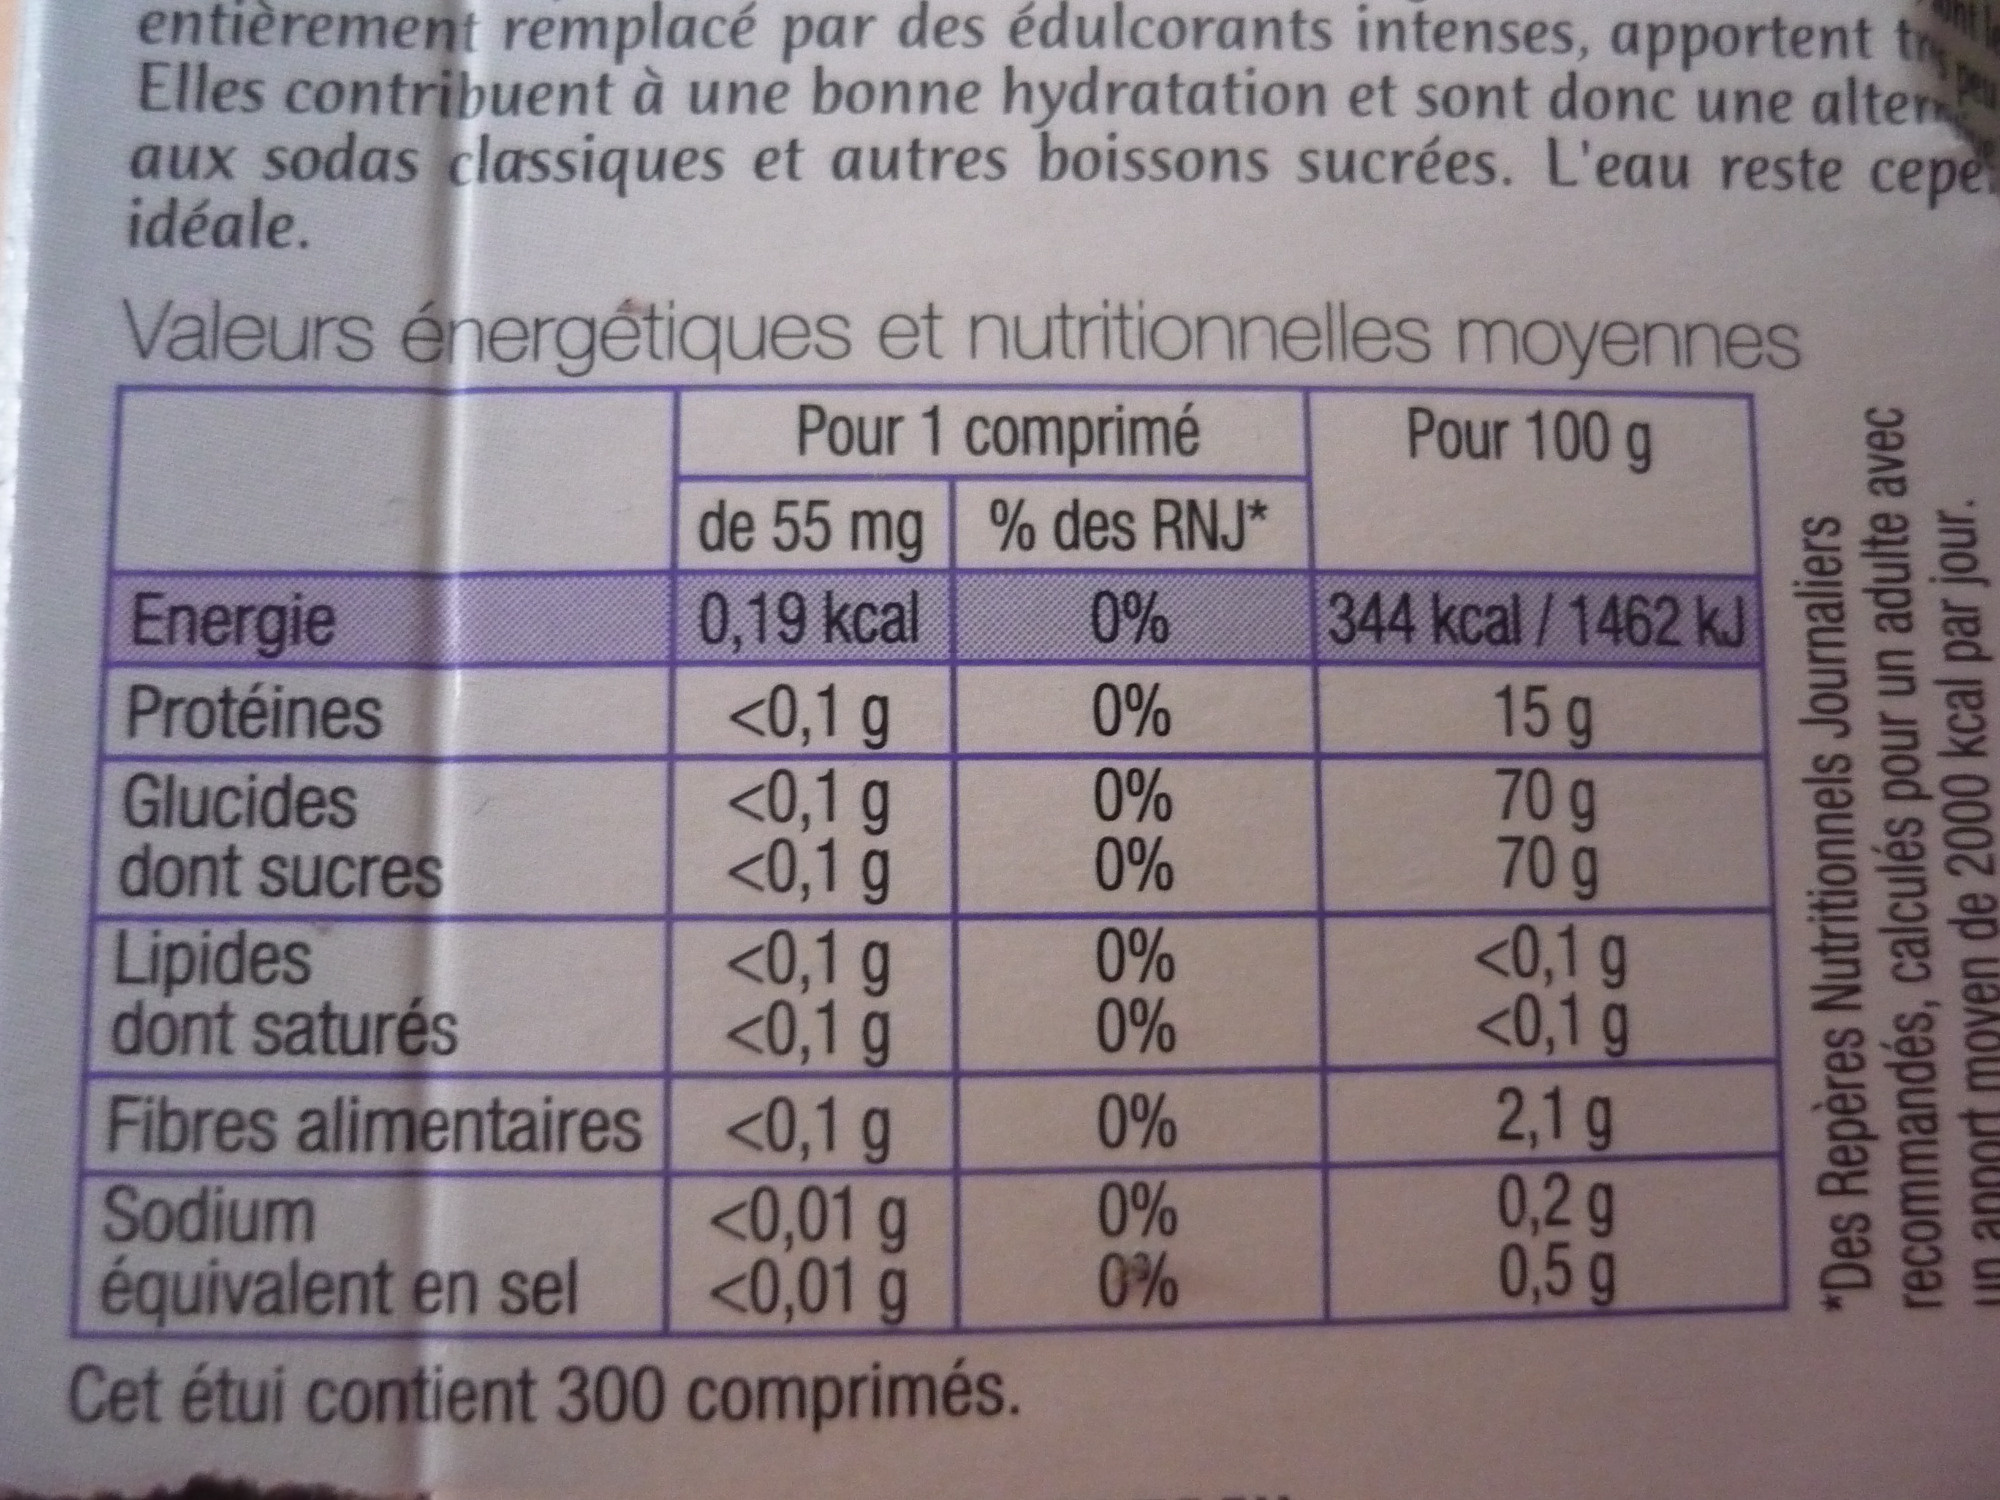column: (102, 585, 641, 1324), (1323, 395, 1748, 1308), (991, 488, 1265, 1309), (696, 488, 923, 1325)
table: (82, 378, 1791, 1339)
